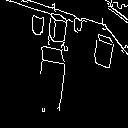cube: (32, 45, 68, 118), (91, 31, 120, 70), (46, 9, 70, 45), (23, 11, 45, 40), (72, 16, 88, 41)
